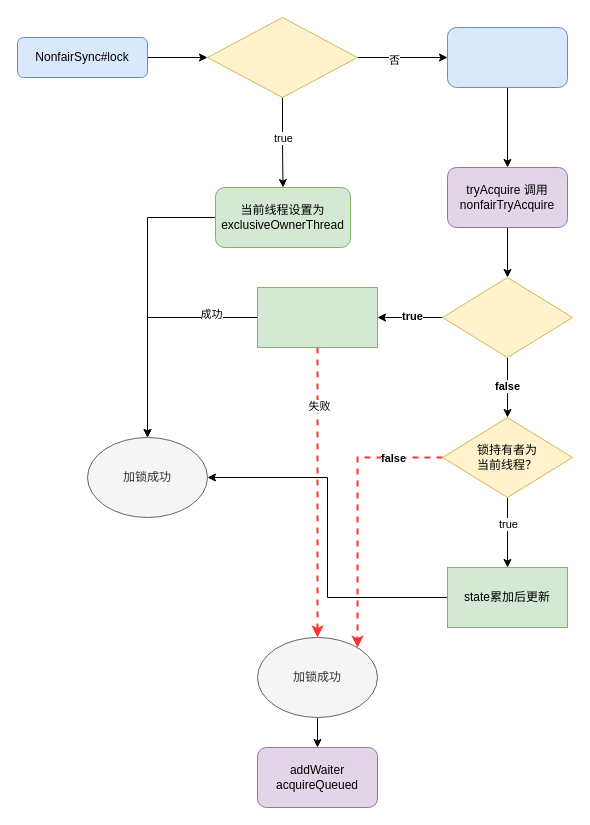
Some shapes in this 590 by 825 pixel diagram are drawn without their labels. Here are the shapes that lost their labels. From the top down, the centre of each, then its label:
pixel 282 57: CAS 修改 state 成功？
pixel 507 57: AQS#acquire
pixel 317 317: CAS修改state为1
pixel 507 317: state == 0？
